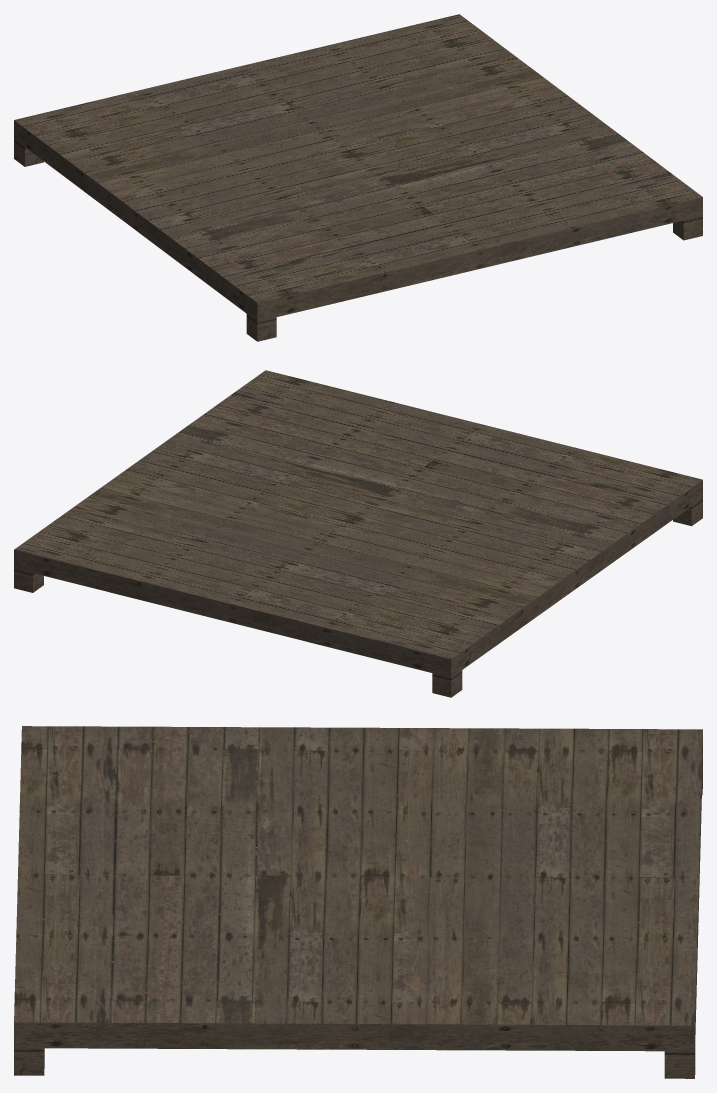
Rendered from OU_AR_House_Wooden_Floor_07_D.fbx.
The picture shows the model from 3 angles, top to bottom: view 1: azimuth 30°, elevation 25°; view 2: azimuth 150°, elevation 25°; view 3: azimuth 270°, elevation 25°; orthographic projection. The views are drawn at different scales.
Visible parts, largest first — view 1: Wooden_Floor; view 2: Wooden_Floor; view 3: Wooden_Floor.
Part boxes in pixels (x1,y1,x2,y2): Wooden_Floor: [14, 14, 702, 341]; Wooden_Floor: [14, 370, 702, 697]; Wooden_Floor: [14, 726, 702, 1078].
Bounding box in the file's own units: 413 × 34.25 × 401.
1 material, 1 textured.
